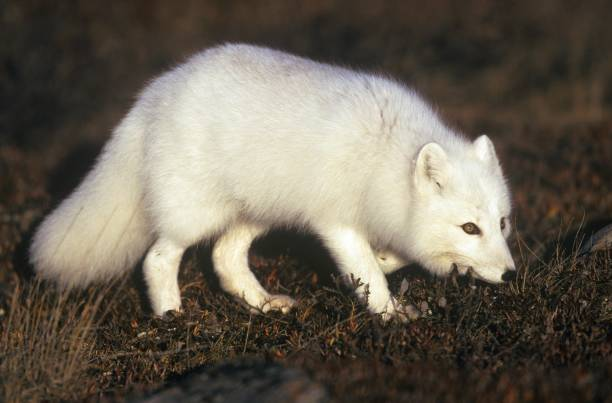arcticfox: (425, 162, 524, 289)
